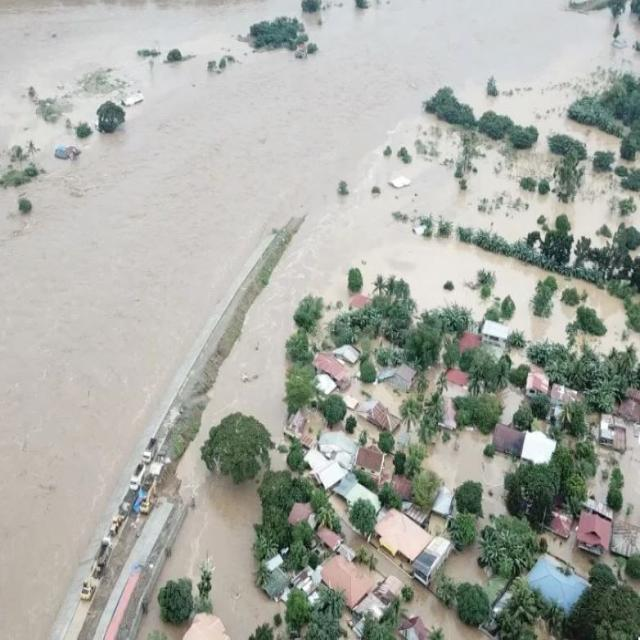flooded_areas: (170, 259, 640, 639), (27, 31, 166, 211)
